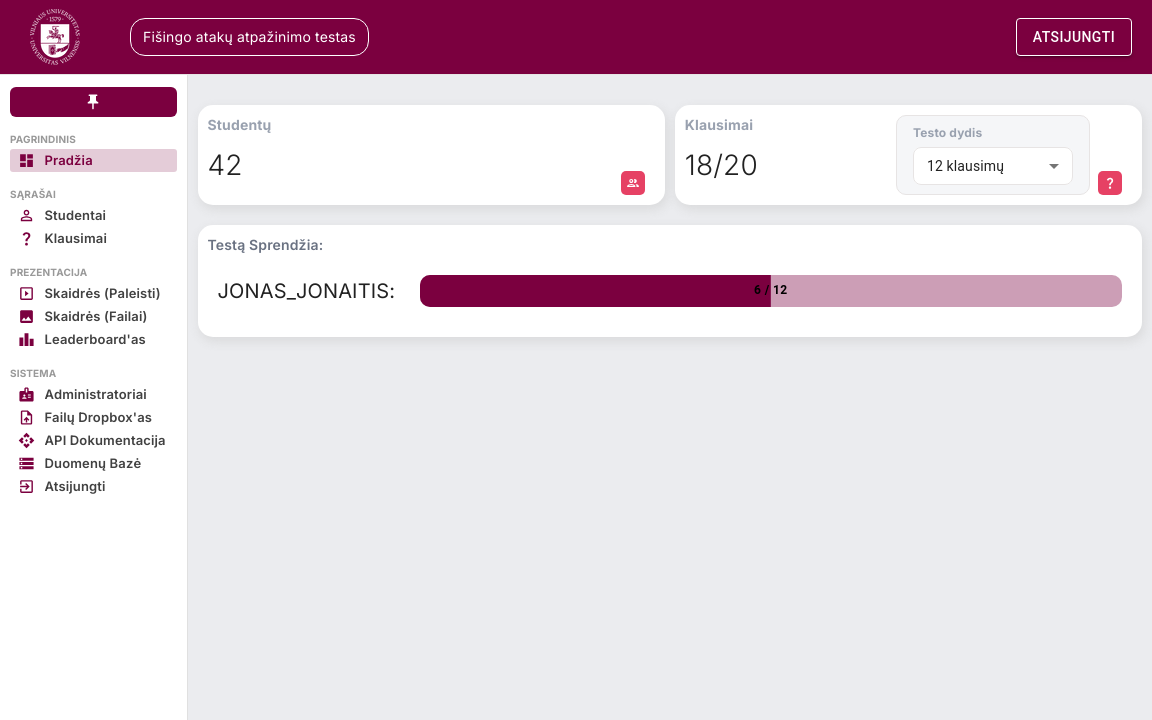
Test case: Home — the test-size picker › saves every pick, in order
The width and height of the screenshot is (1152, 720).
Check: the text "Studentų" is shown, box [208,115,271,135]
Click the dropdown labelled "12 klausimų": (966, 166) [927,158,1004,174]
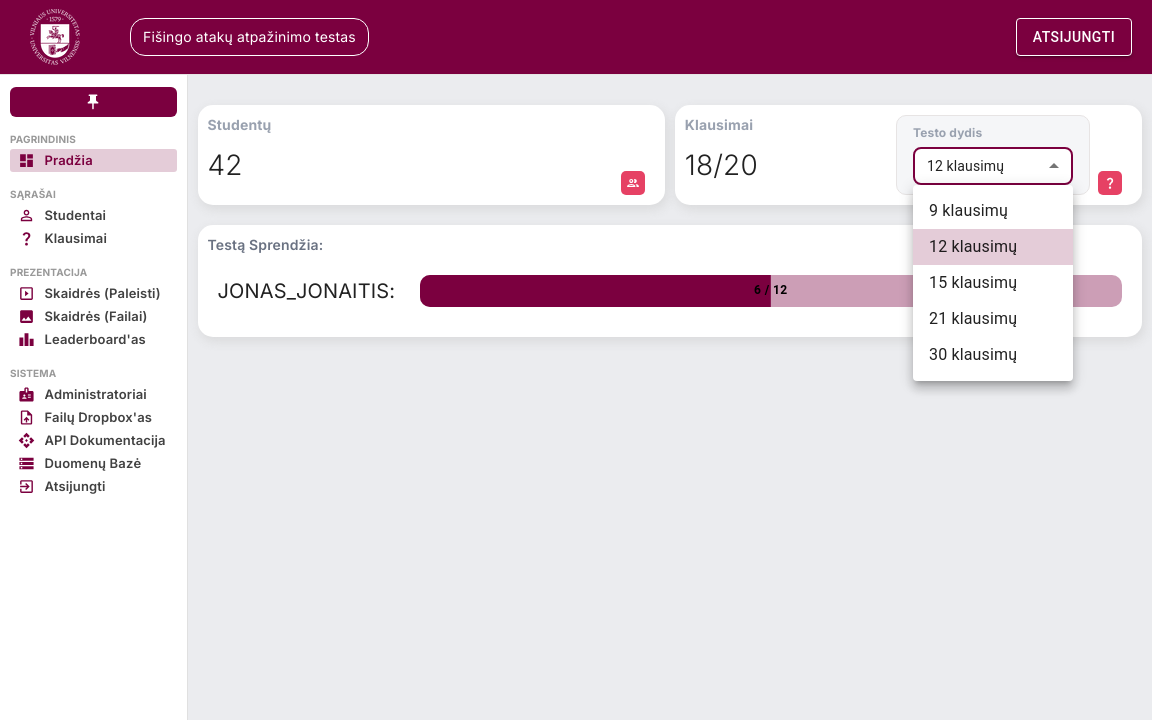
Click the option "21 klausimų": (973, 318) [929,309,1017,328]
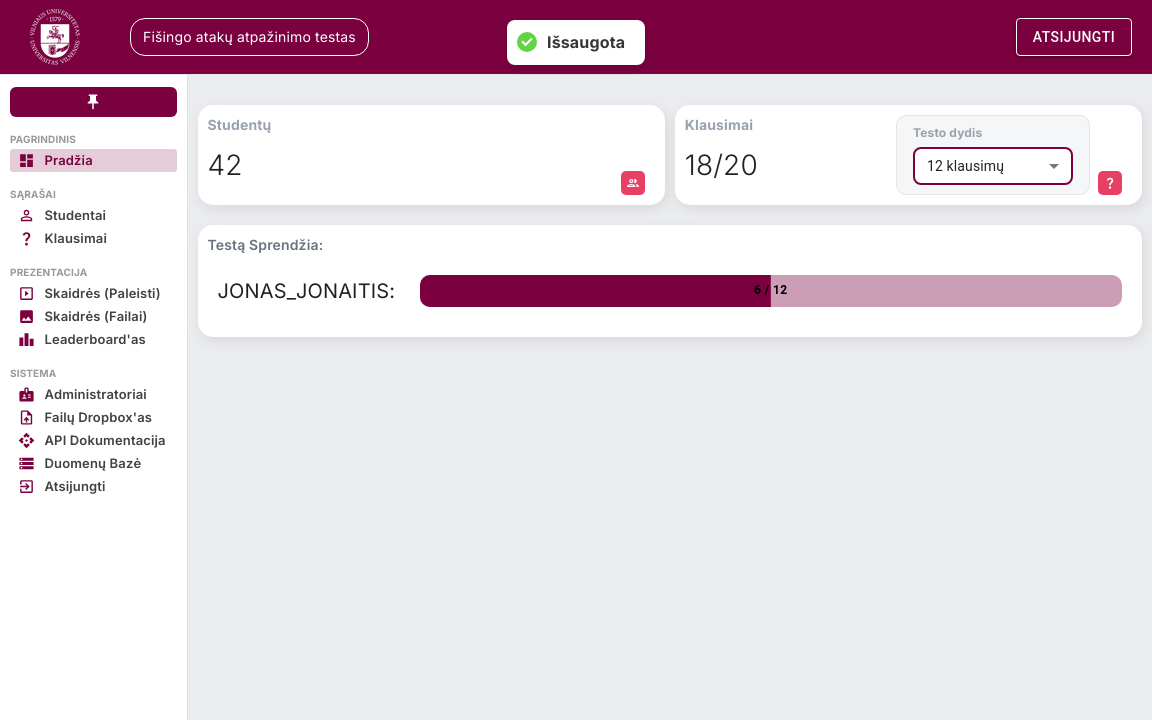
Check: the list "9 klausimų 12 klausimų 15 klausimų 21 klausimų 30 klausimų" is gone
Click the dropdown: (966, 166) [927,158,1004,174]
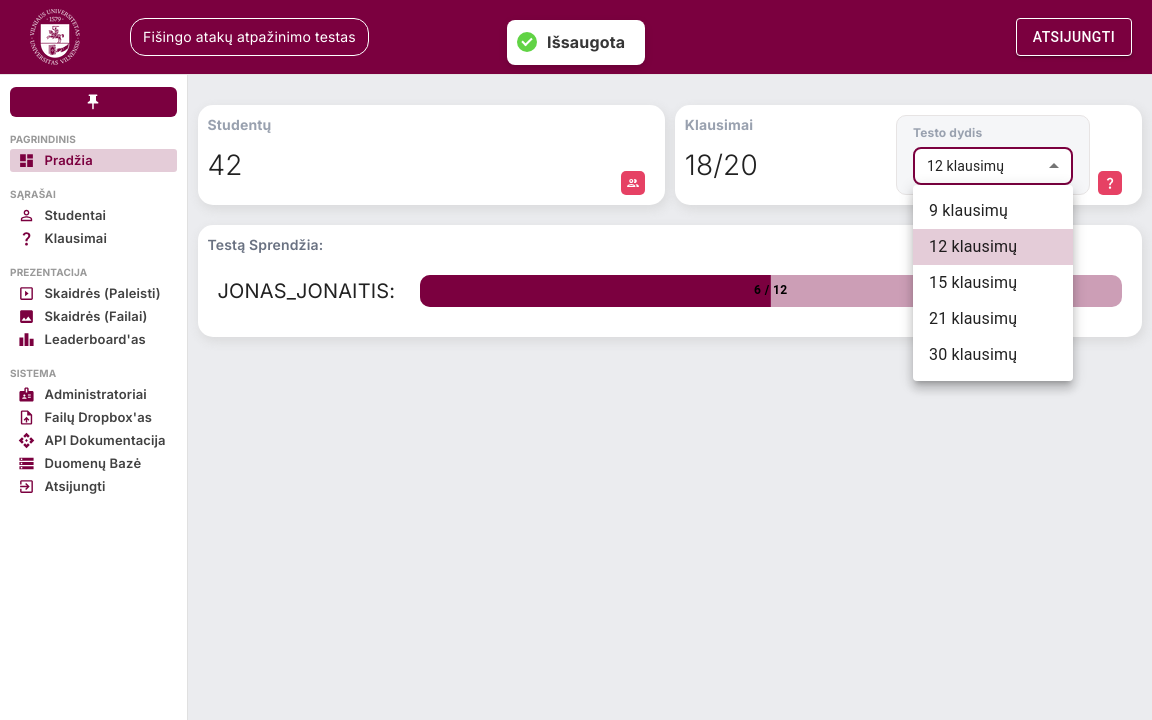
Click the option "9 klausimų": (968, 210) [929,201,1008,220]
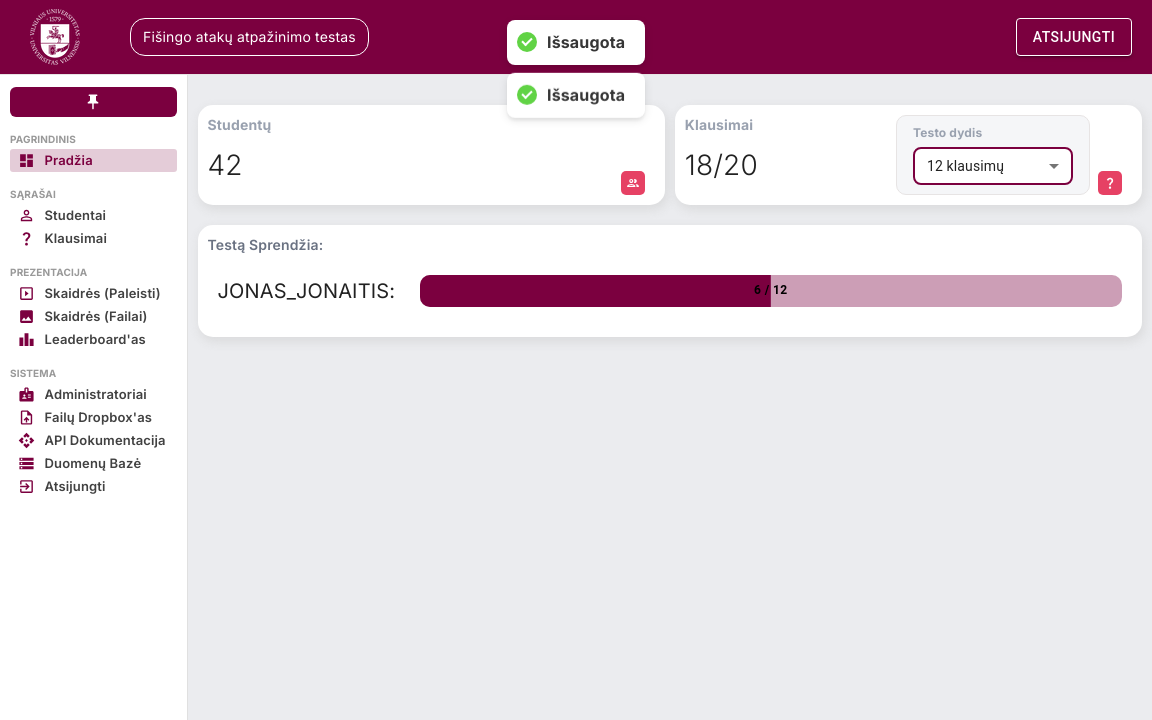
Check: the list "9 klausimų 12 klausimų 15 klausimų 21 klausimų 30 klausimų" is gone
